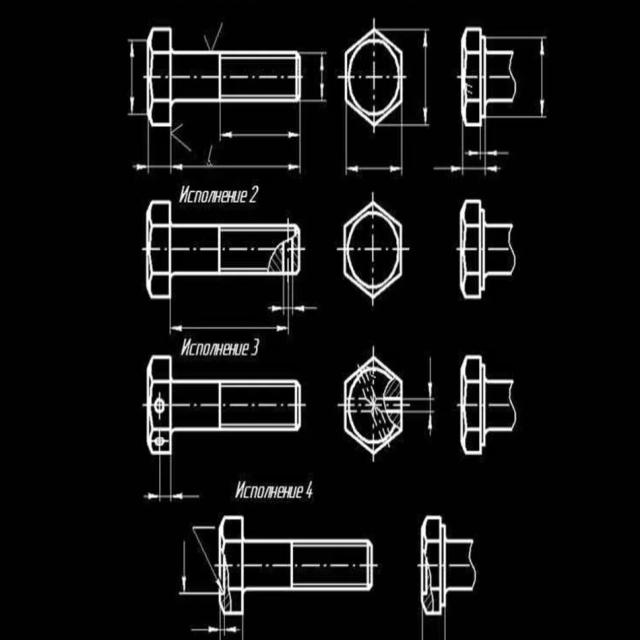marking_line: (419, 26, 434, 128), (133, 163, 300, 172), (430, 162, 507, 177), (168, 324, 289, 333), (126, 37, 139, 118), (424, 357, 437, 438), (538, 37, 550, 120), (145, 491, 198, 505), (220, 131, 299, 140), (346, 163, 404, 175), (180, 540, 191, 596), (466, 148, 514, 160), (269, 303, 320, 314), (188, 626, 240, 635), (320, 54, 328, 100)
